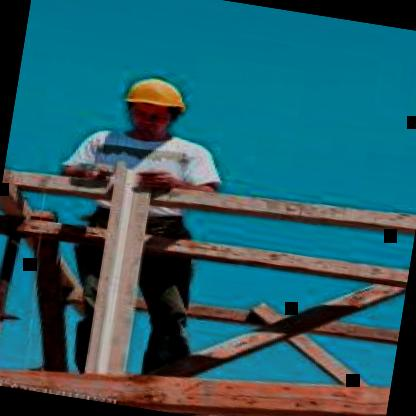helmet: (108, 64, 197, 143)
